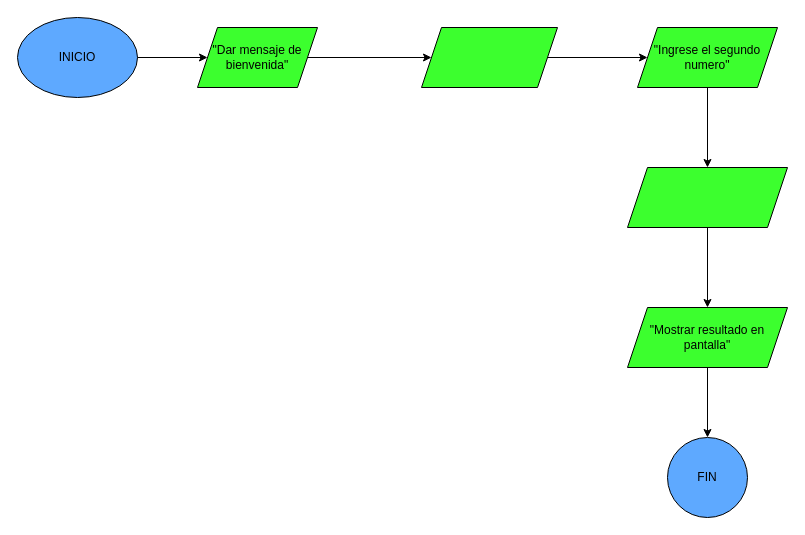
This 805x535 diagram has some shape labels left out. The shapes that lost their labels are listed below. From the top down, each one's box as (x1, y1, x2, y2) in pixels, then its label:
(420, 26, 558, 88): "Ingrese el primer numero"
(626, 166, 788, 228): Realizar la operación seleccionada
